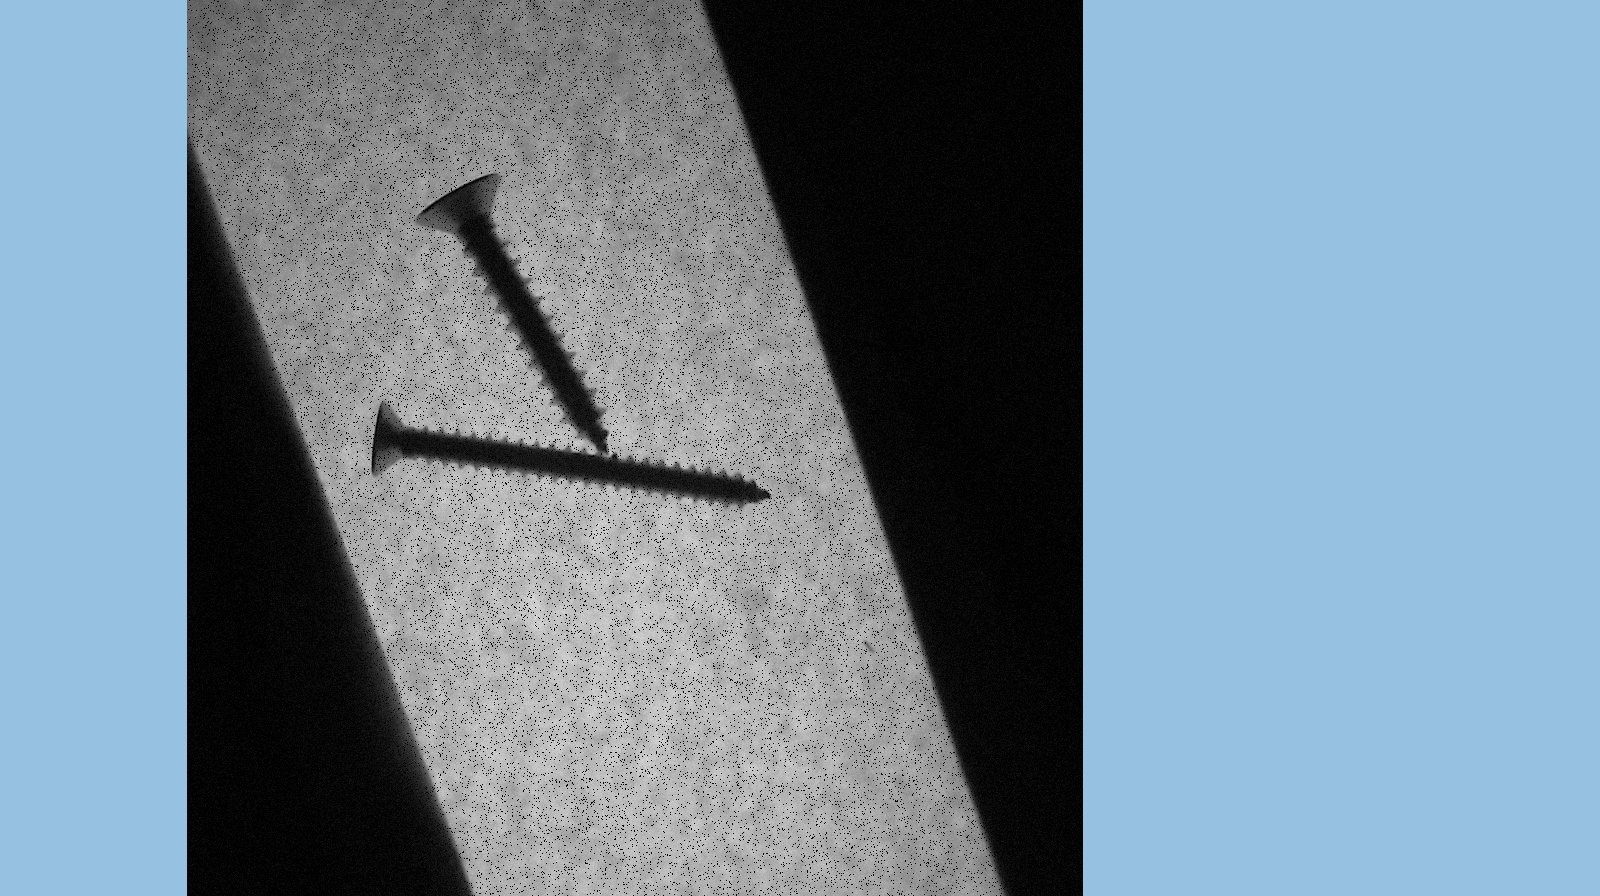S001: (414, 154, 620, 467)
S002: (353, 396, 776, 507)
